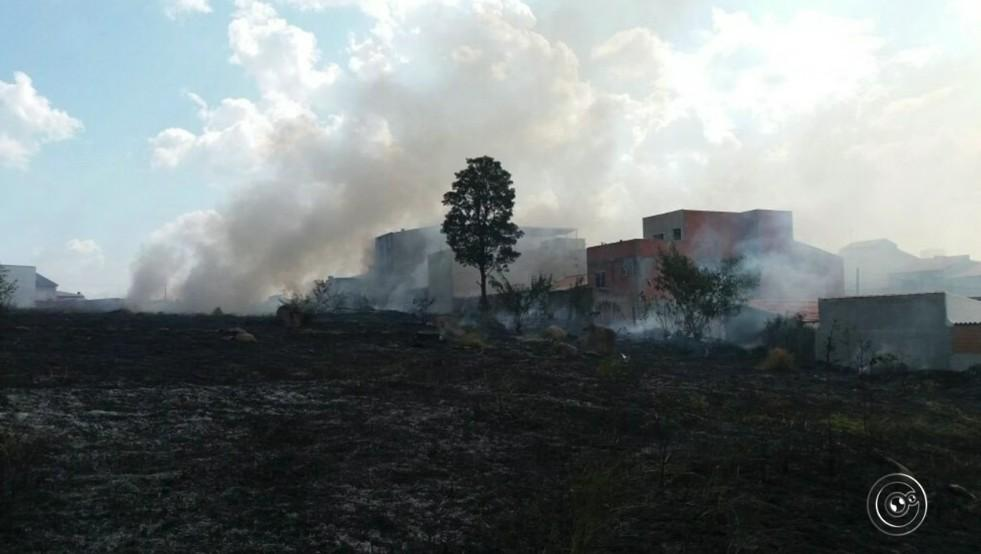smoke: (186, 204, 310, 313), (321, 109, 436, 220)
